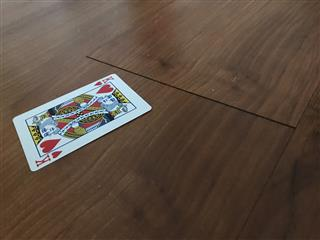KingOfHearts: (10, 72, 152, 171)
